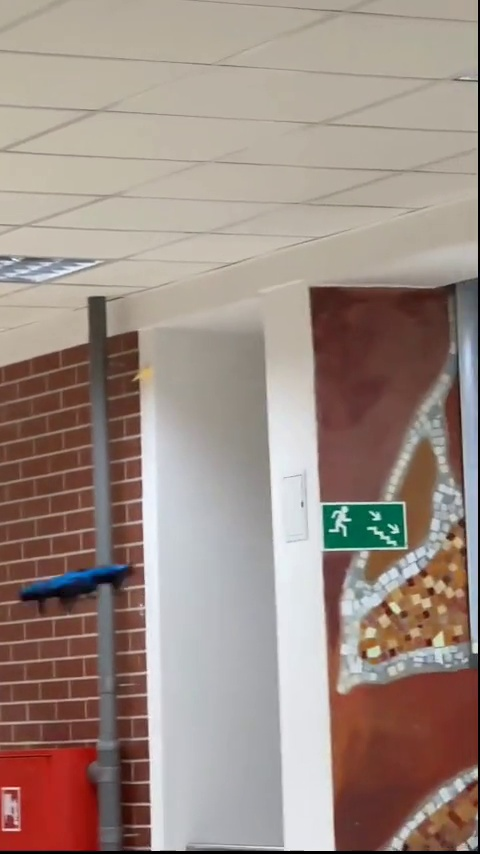drone: (23, 560, 136, 609)
